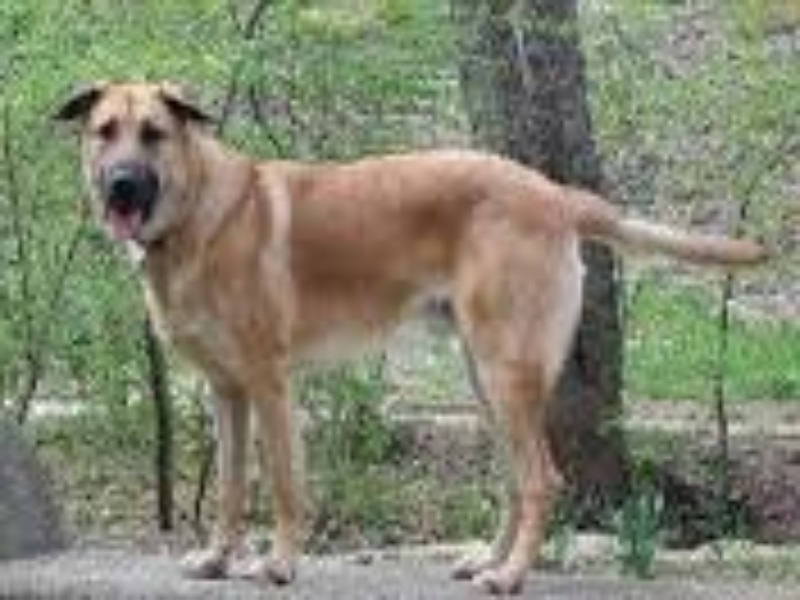dog: (45, 78, 761, 590)
